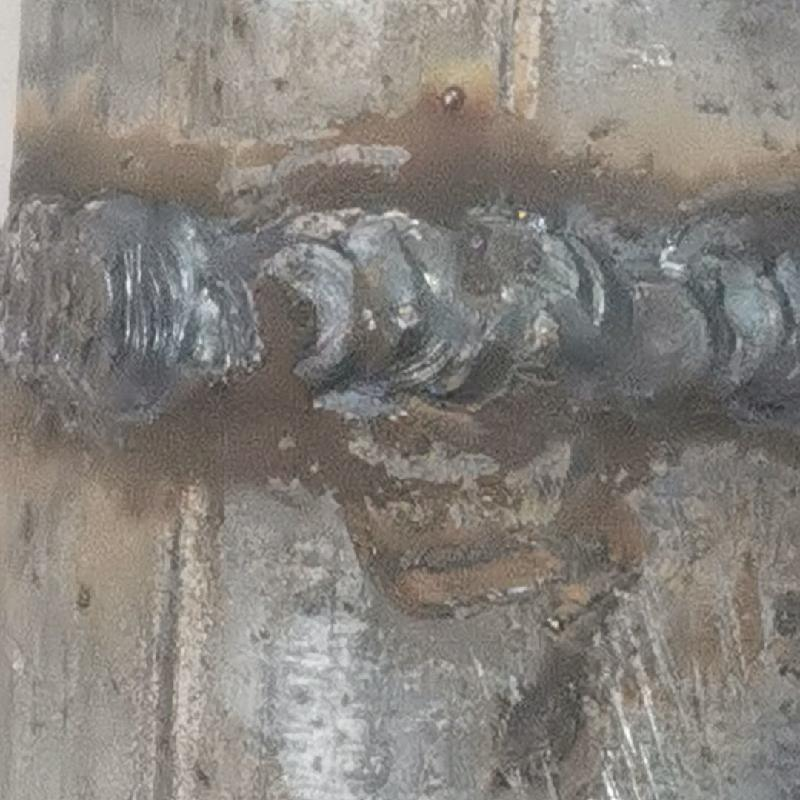good: (6, 189, 799, 408)
